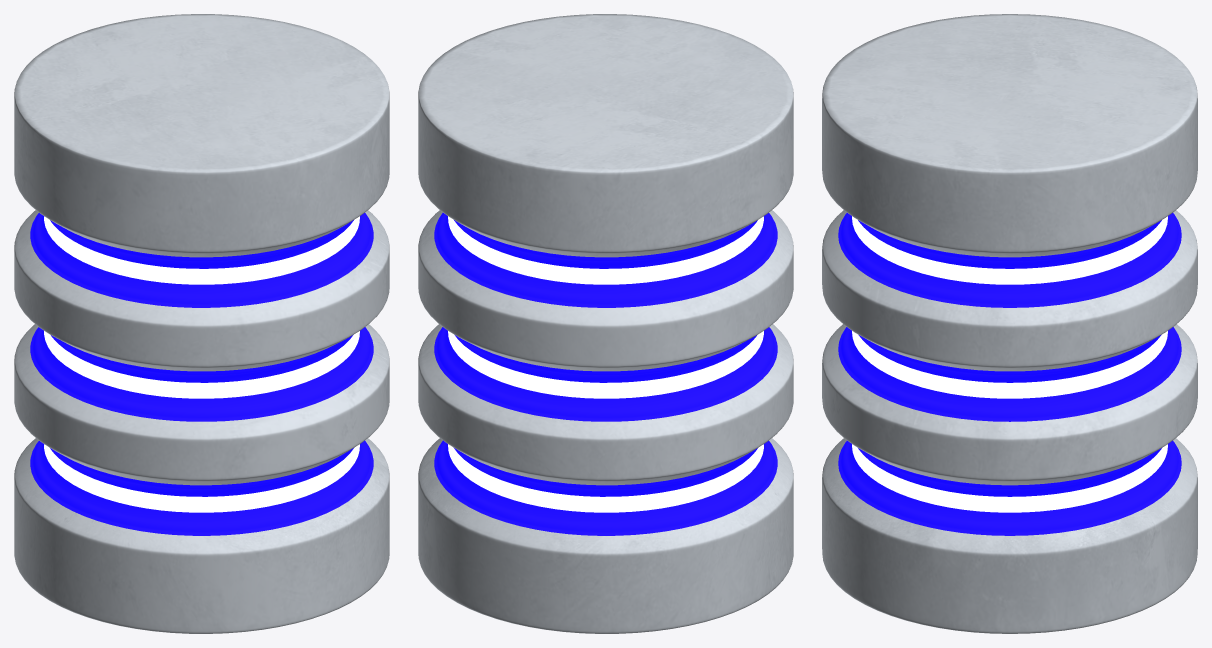
3 views of the same model, side by side, from view 1: azimuth 30°, elevation 25°; view 2: azimuth 150°, elevation 25°; view 3: azimuth 270°, elevation 25° (orthographic).
Parts seen in each view (by area): view 1: Cylinder.002; view 2: Cylinder.002; view 3: Cylinder.002.
Boxes of the visible parts, <box> form: Cylinder.002: <box>14,14,389,633</box>; Cylinder.002: <box>418,14,793,633</box>; Cylinder.002: <box>822,14,1197,633</box>.
Size of the model in its own units: 1.47 by 2 by 1.47.
Materials: 3 (1 with a texture image).
